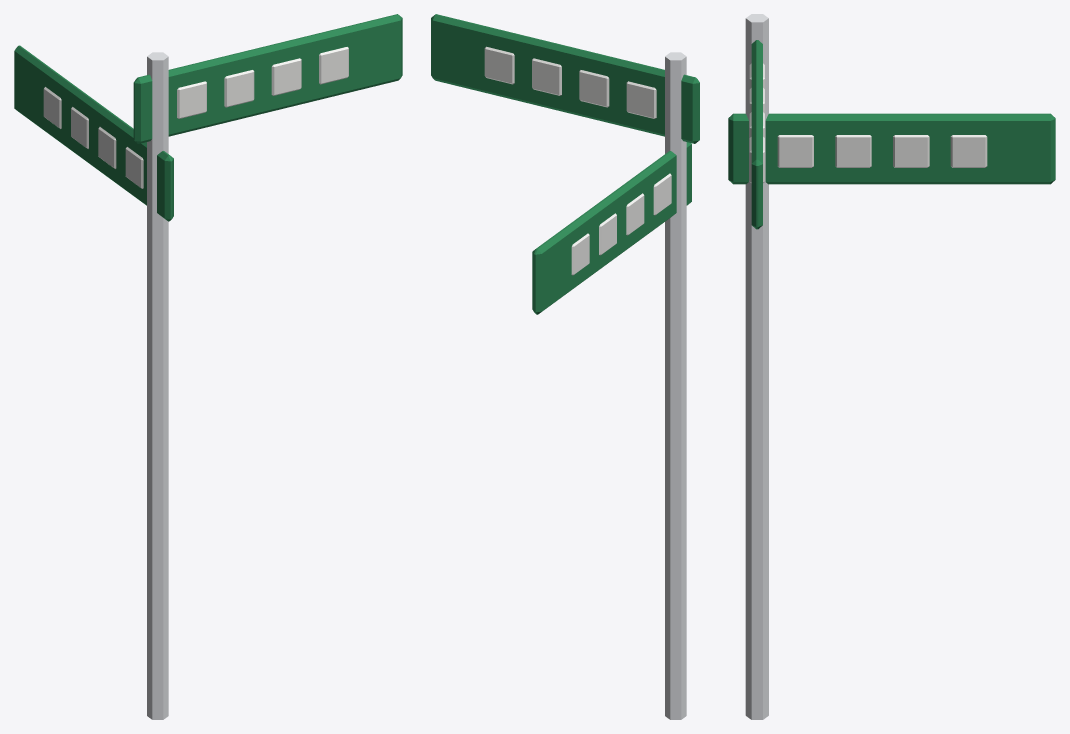
Rendered from StreetSign.fbx.
3 renders of one model, left to right at view 1: azimuth 30°, elevation 25°; view 2: azimuth 150°, elevation 25°; view 3: azimuth 270°, elevation 25°, orthographic. The views are drawn at different scales.
Parts seen in each view (by area): view 1: StreetSign; view 2: StreetSign; view 3: StreetSign.
Boxes of the visible parts, x1,y1,x2,y2 form: StreetSign: (14, 14, 402, 719); StreetSign: (431, 14, 699, 719); StreetSign: (728, 14, 1055, 719).
Bounding box in the file's own units: 3.4 × 8 × 3.4.
1 material, 1 textured.
